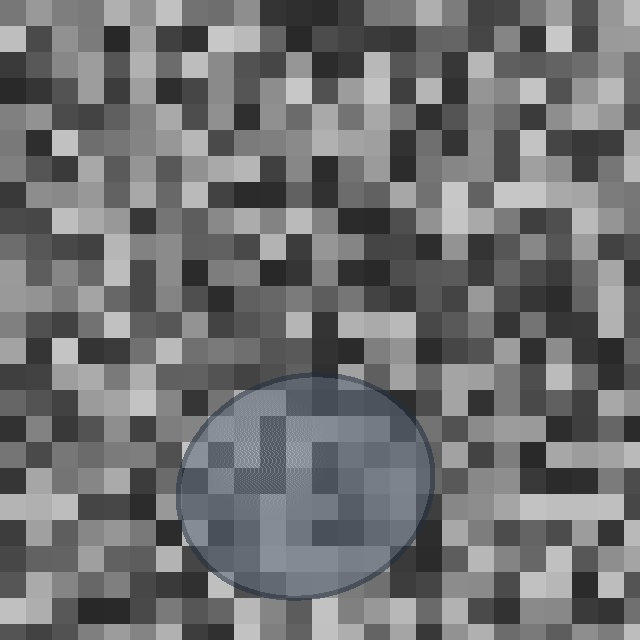lens: (178, 375, 432, 597)
